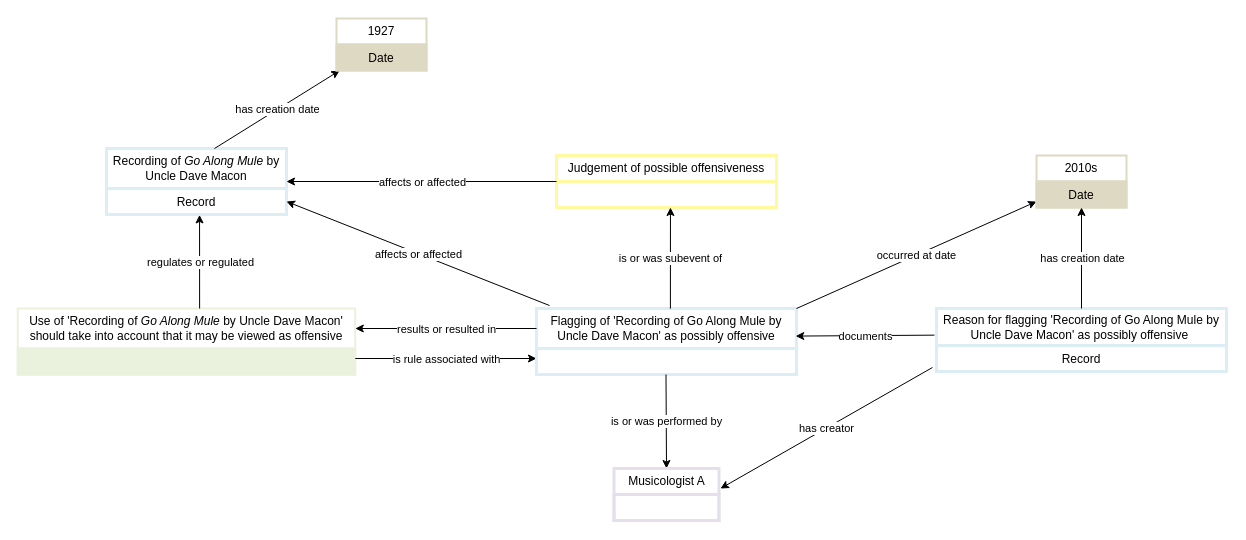
Image size: 1246x540. Some labels were removed from this diagram. The centre of each missing label's shape, as x and y in pixels:
"Activity" goes at point (666, 194).
"Event" goes at point (666, 361).
"Person" goes at point (666, 507).
"Rule" goes at point (186, 361).
